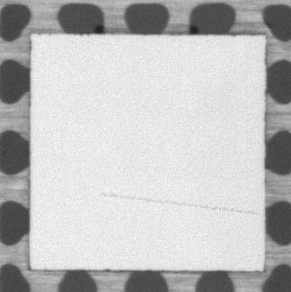DIE_CRACK: (100, 195, 255, 214)
